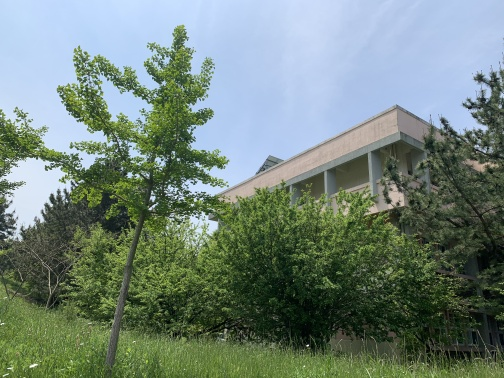College Of Education: (197, 99, 503, 289)
